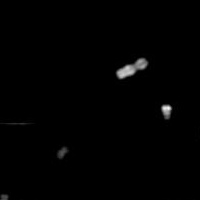chromosome: (116, 57, 147, 79), (161, 106, 170, 120), (57, 147, 67, 159), (0, 194, 8, 200)
